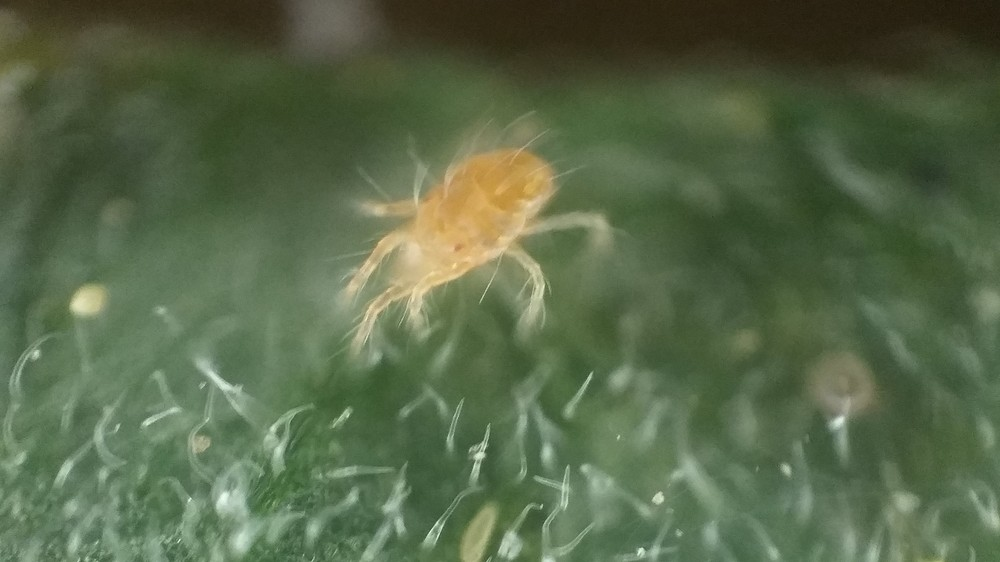Aracnido Rojo: (309, 114, 636, 384)
